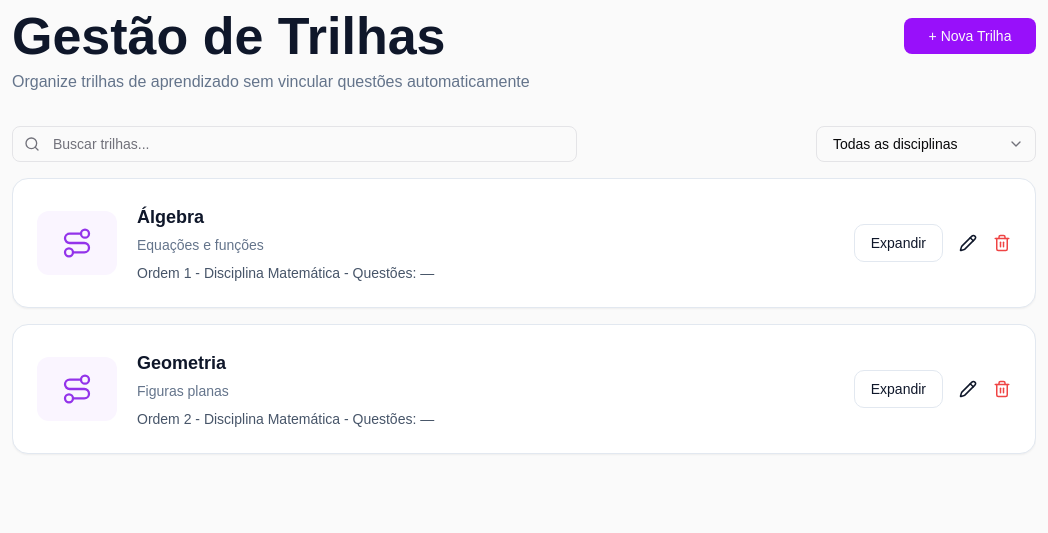
Test: TrailsPage › exclui trilha após confirmação e atualiza a listagem
Expected: the heading "Álgebra" is shown, x1=137 y1=207 x2=204 y2=227
Click the button named "Excluir trilha" in the row of "Equações e funções" at (1002, 243), box x1=993 y1=234 x2=1011 y2=252
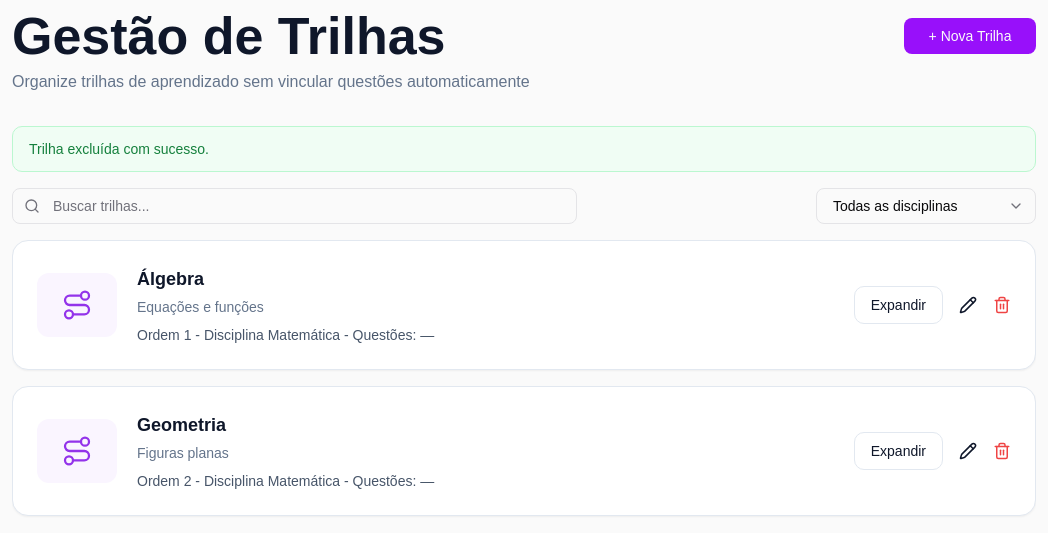
Expected: the text "Trilha excluída com sucesso." is shown, x1=29 y1=141 x2=209 y2=157
